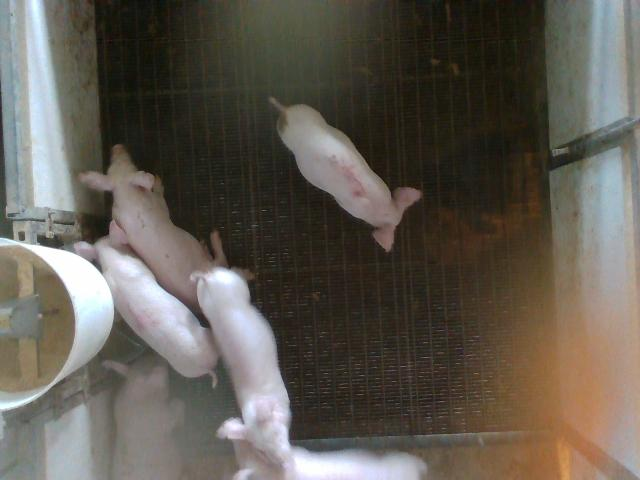pig-4: (75, 220, 219, 378)
pig-5: (269, 98, 421, 251)
